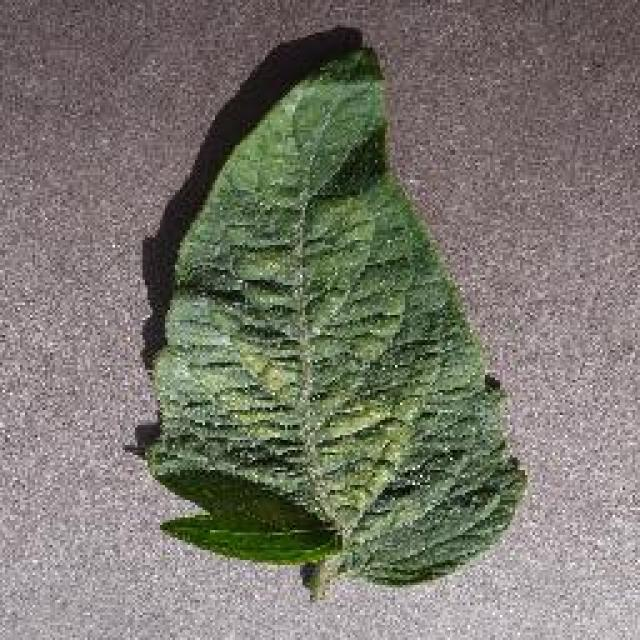Tomato spider mites leaf: (150, 51, 527, 586)
